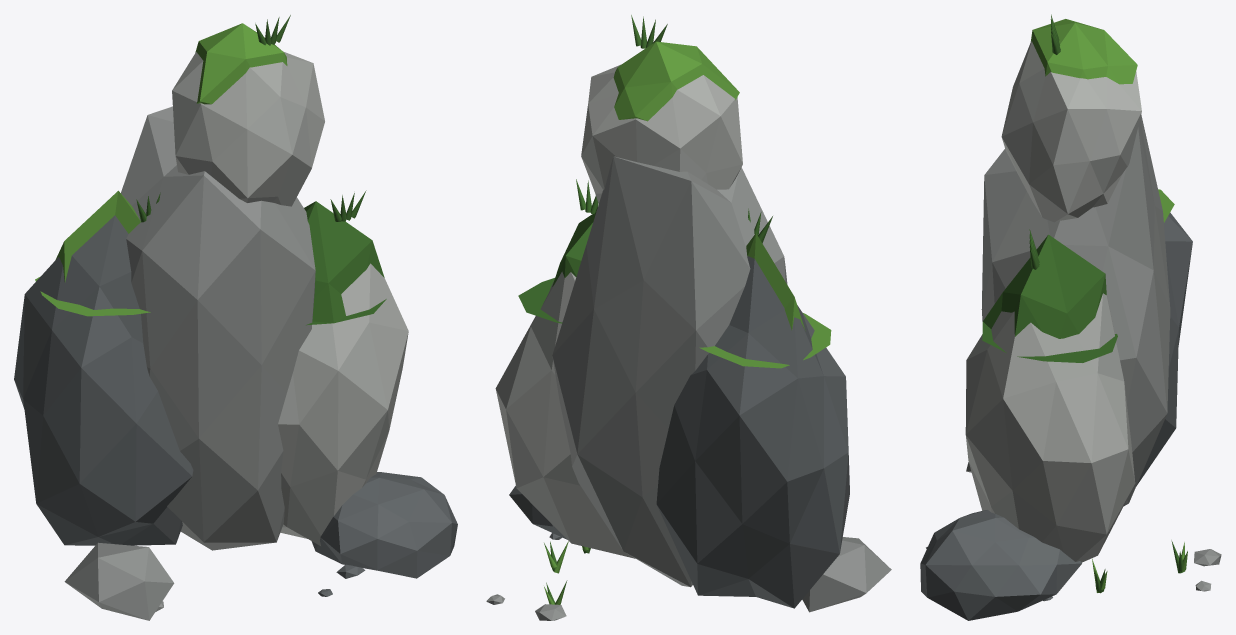
The model's file is CliffChunk.glb.
3 views of the same model, side by side, from view 1: azimuth 30°, elevation 25°; view 2: azimuth 150°, elevation 25°; view 3: azimuth 270°, elevation 25° (orthographic). The views are drawn at different scales.
Parts seen in each view (by area): view 1: Body; view 2: Body; view 3: Body.
Boxes of the visible parts, x1,y1,x2,y2 form: Body: (14, 15, 457, 620); Body: (486, 15, 891, 620); Body: (920, 14, 1221, 620).
Size of the model in its own units: 7.78 by 11.19 by 5.66.
Materials: 1 (1 with a texture image).
